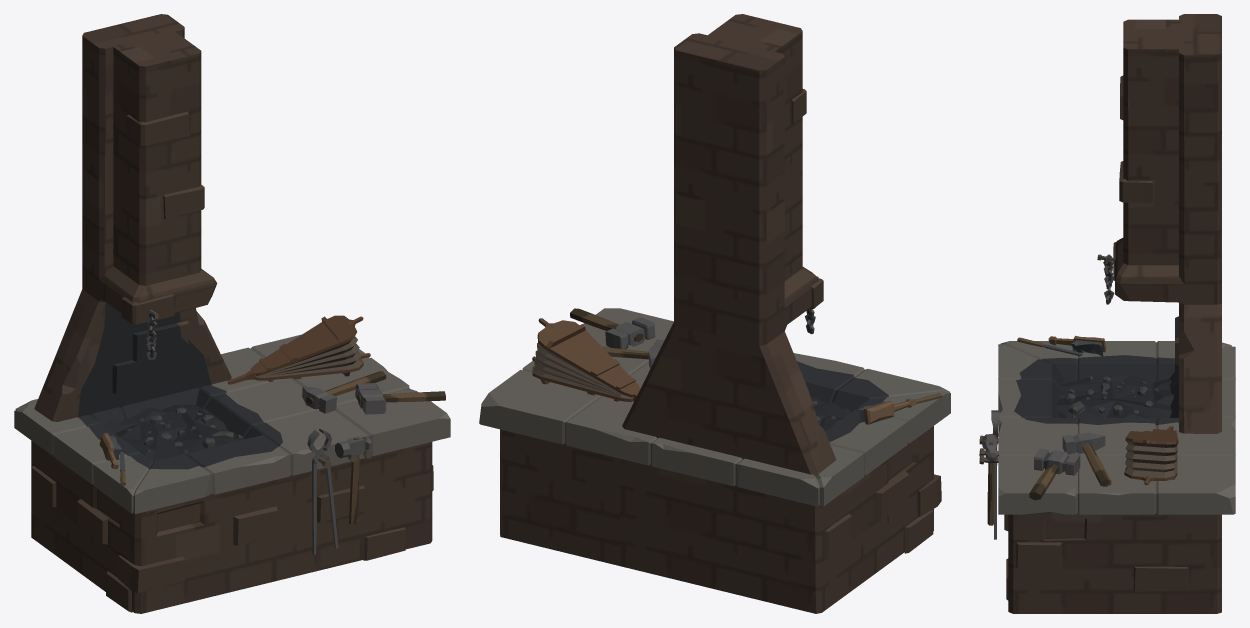
File: kingdom_SM_Prop_Workbench_Forge_01_Preset.gltf
3 renders of one model, left to right at view 1: azimuth 30°, elevation 25°; view 2: azimuth 150°, elevation 25°; view 3: azimuth 270°, elevation 25°, orthographic. The views are drawn at different scales.
Parts seen in each view (by area): view 1: SM_Prop_Workbench_Forge_01_Preset; view 2: SM_Prop_Workbench_Forge_01_Preset; view 3: SM_Prop_Workbench_Forge_01_Preset.
Boxes of the visible parts, x1=… form: SM_Prop_Workbench_Forge_01_Preset: x1=14, y1=14, x2=450, y2=613; SM_Prop_Workbench_Forge_01_Preset: x1=479, y1=14, x2=950, y2=613; SM_Prop_Workbench_Forge_01_Preset: x1=979, y1=14, x2=1235, y2=613.
Bounding box in the file's own units: 2.31 × 3.25 × 1.56.
Materials: 1 (1 with a texture image).
